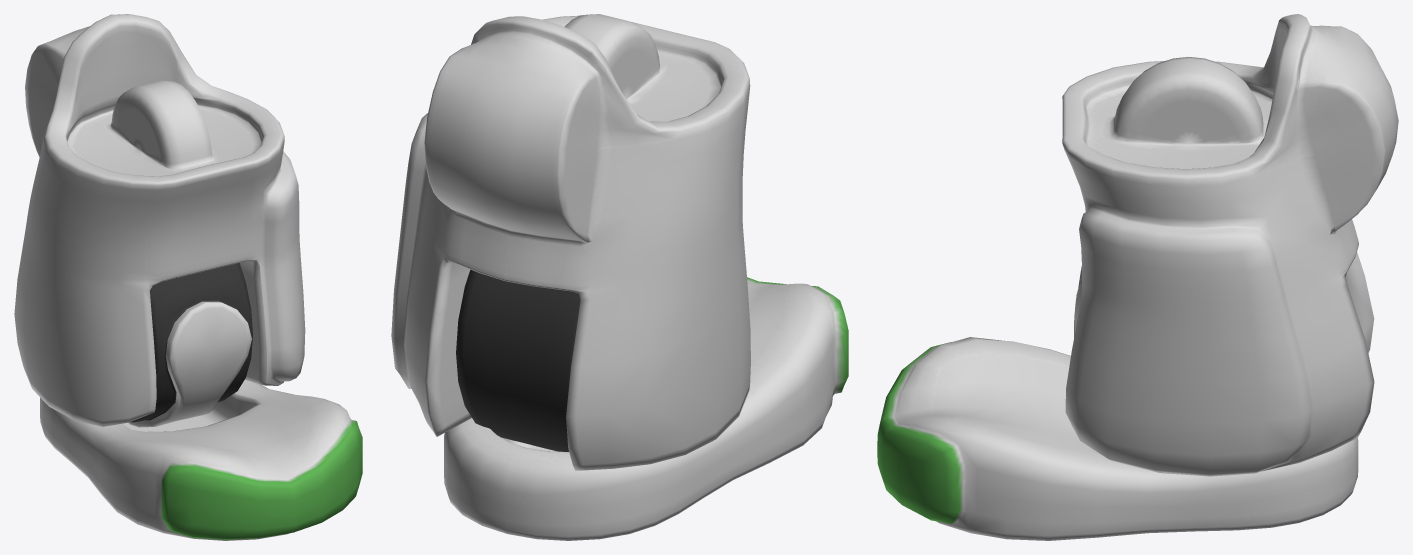
The model's file is right_second_leg.obj.
The picture shows the model from 3 angles, left to right: view 1: azimuth 30°, elevation 25°; view 2: azimuth 150°, elevation 25°; view 3: azimuth 270°, elevation 25°; orthographic projection. The views are drawn at different scales.
Visible parts, largest first — view 1: transform4 _Robot_l2:Body, _Robot_l2:Body transform6, _Robot_l2:Body transform5; view 2: transform4 _Robot_l2:Body, _Robot_l2:Body transform6, _Robot_l2:Body transform5; view 3: transform4 _Robot_l2:Body, _Robot_l2:Body transform6.
Part boxes in pixels (left/top/right/bottom): transform4 _Robot_l2:Body: left=14, top=14, right=305, bottom=426; _Robot_l2:Body transform6: left=40, top=380, right=362, bottom=540; _Robot_l2:Body transform5: left=128, top=263, right=252, bottom=427; transform4 _Robot_l2:Body: left=391, top=14, right=750, bottom=470; _Robot_l2:Body transform6: left=444, top=277, right=848, bottom=540; _Robot_l2:Body transform5: left=456, top=269, right=580, bottom=451; transform4 _Robot_l2:Body: left=1062, top=14, right=1398, bottom=476; _Robot_l2:Body transform6: left=877, top=337, right=1358, bottom=540.
Bounding box in the file's own units: 4.02 × 6.44 × 6.62.
1 material, 1 textured.
